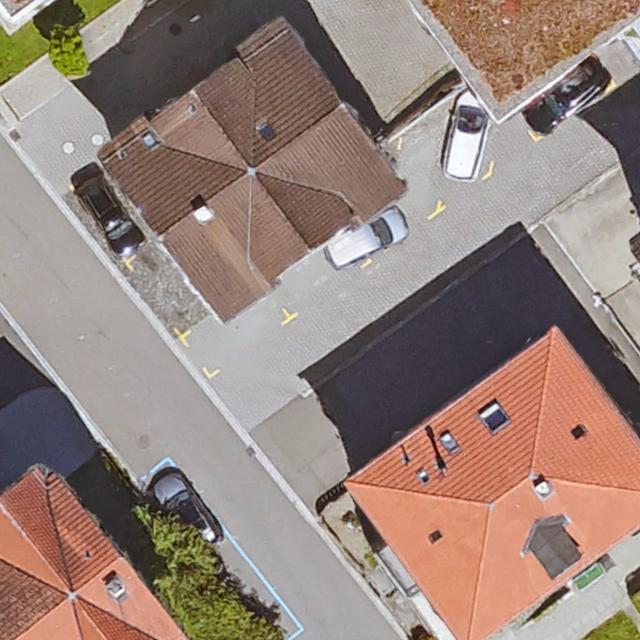tree: (125, 506, 285, 640), (52, 34, 89, 73)
